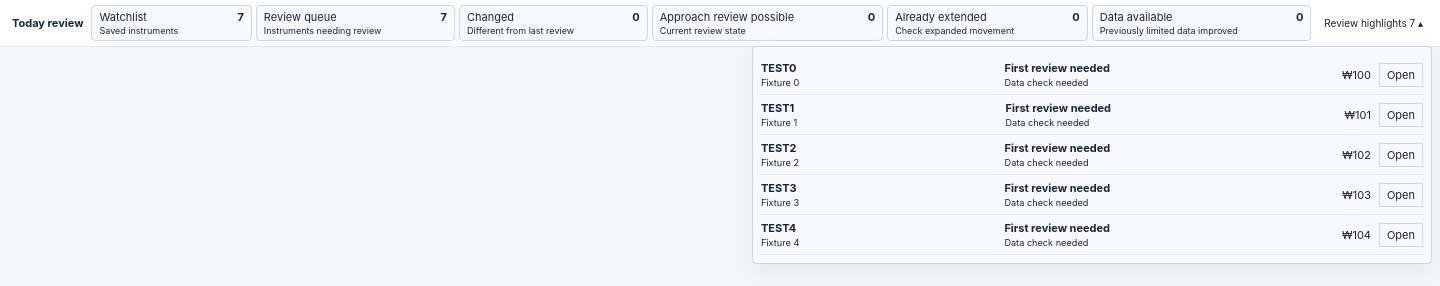
Scenario: TodayReviewDashboard › renders counts and only five highlights, and opens the actual row instrument
Expected: the button "Watchlist 7 Saved instruments" is shown, x1=92 y1=5 x2=252 y2=41
Expected: the button "Review queue 7 Instruments needing review" is shown, x1=256 y1=5 x2=455 y2=41
Click the button with aria-label "Open TEST0 · Today review": (1401, 74) x1=1379 y1=62 x2=1423 y2=86
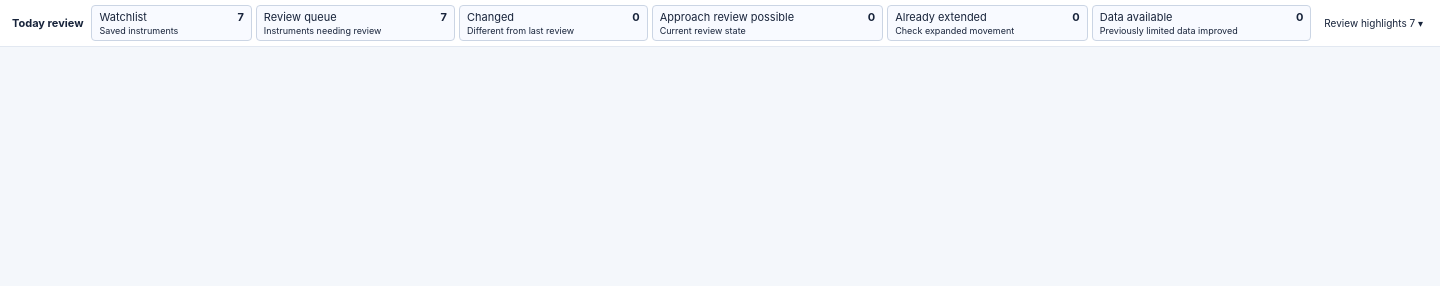
Expected: the button "Review highlights 7 ▾" is collapsed, x1=1319 y1=12 x2=1428 y2=34
